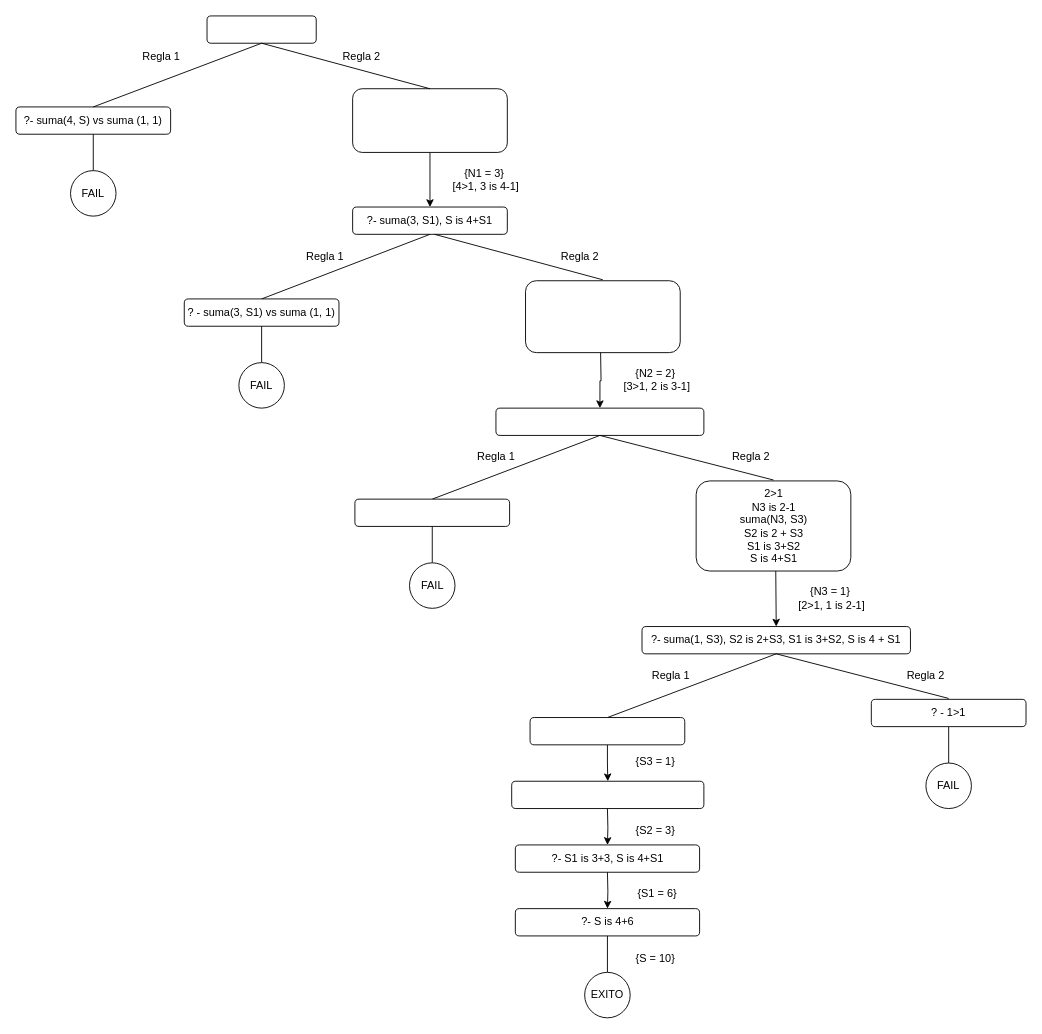
This 1042x1034 diagram has some shape labels left out. Each missing label, with the centre of its shape:
3>1 N2 is 3-1 suma(N2, S2) S1 is 3+S2 S is 4+S1: point 602,316
4>1 N1 is 4-1 suma(N1, S1) S is 4+S1: point 429,120
? - suma(2, S2), S1 is 3+S2, S is 4 + S1: point 599,421
?- S2 is 2+1, S1 is 3 + S2, S is 4 + S1: point 607,794
?- suma(1, S3) vs suma (1, 1): point 607,731
?- suma(2, S2) vs suma (1, 1): point 432,512
?- suma(4, S).: point 261,29
